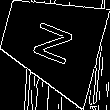N_W: (26, 15, 77, 69)
